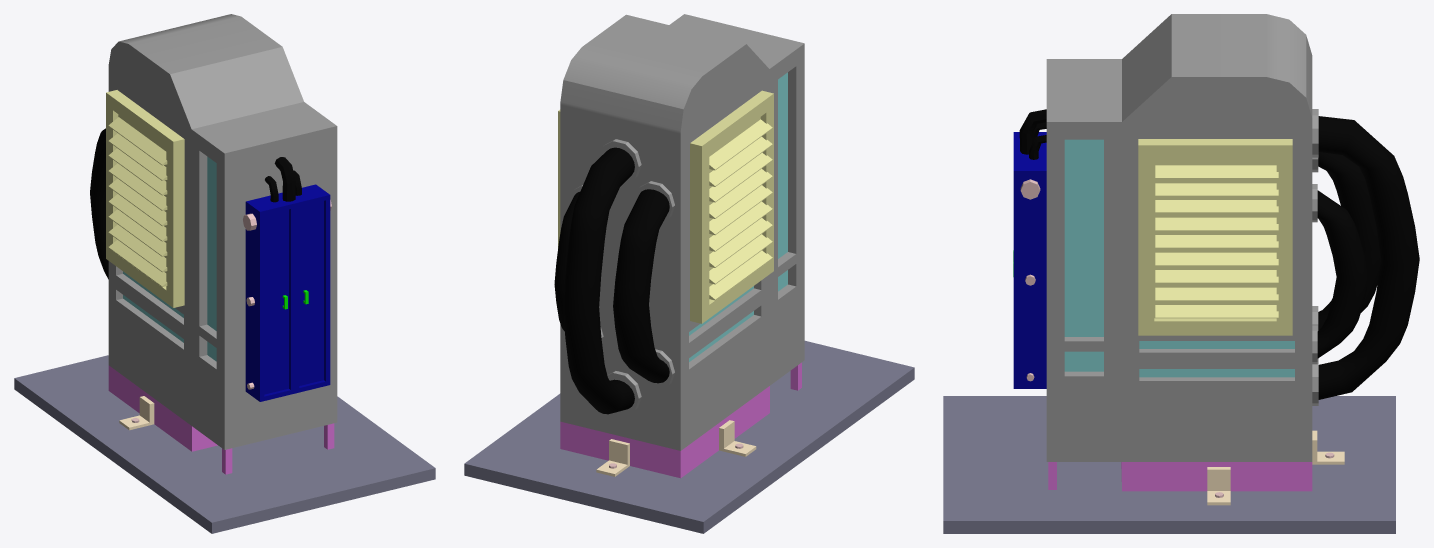
Rendered from Small machine.fbx.
3 views of the same model, side by side, from view 1: azimuth 30°, elevation 25°; view 2: azimuth 150°, elevation 25°; view 3: azimuth 270°, elevation 25° (orthographic). The views are drawn at different scales.
Parts seen in each view (by area): view 1: pCylinder22; view 2: pCylinder22; view 3: pCylinder22.
Part boxes in pixels (box(x1,y1,x2,y2)): pCylinder22: box(14, 14, 435, 533); pCylinder22: box(464, 14, 914, 533); pCylinder22: box(943, 14, 1419, 533).
Bounding box in the file's own units: 3 × 4.78 × 4.83.
